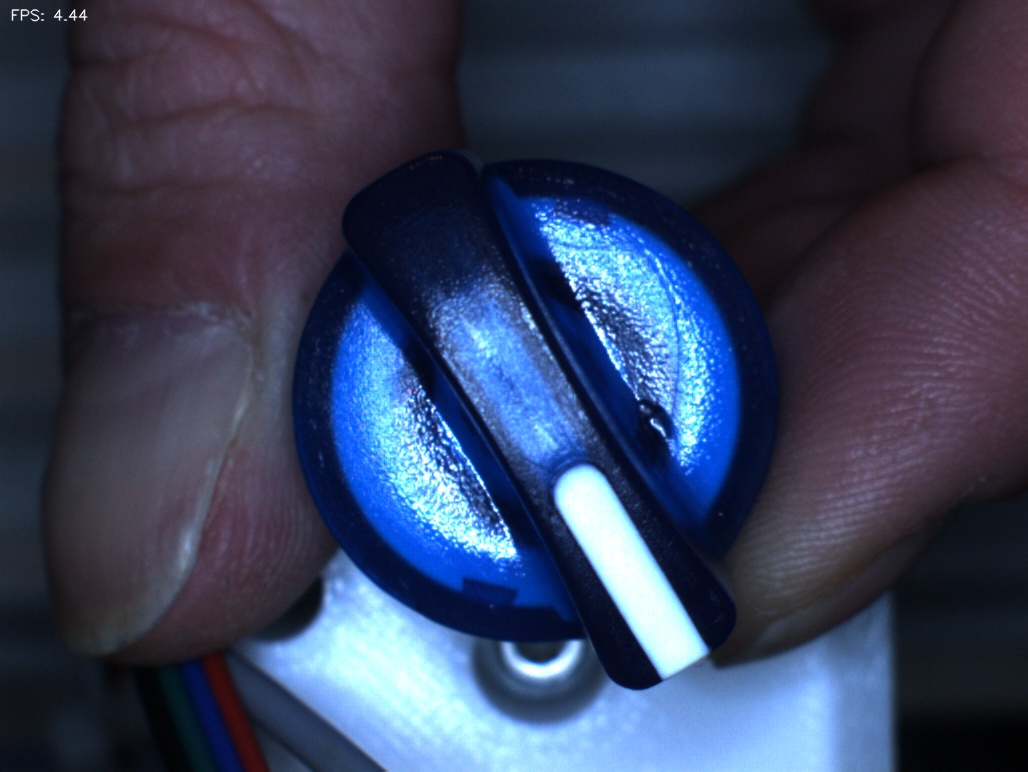Choc: (614, 382, 702, 470)
